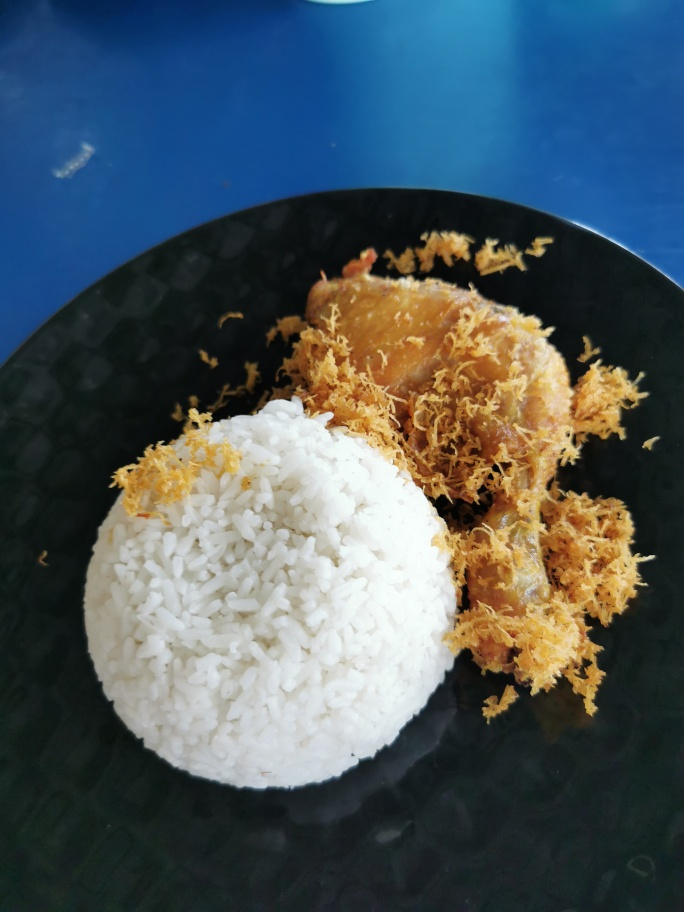ayam goreng: (264, 248, 648, 715)
nasi putih: (69, 402, 467, 802)
